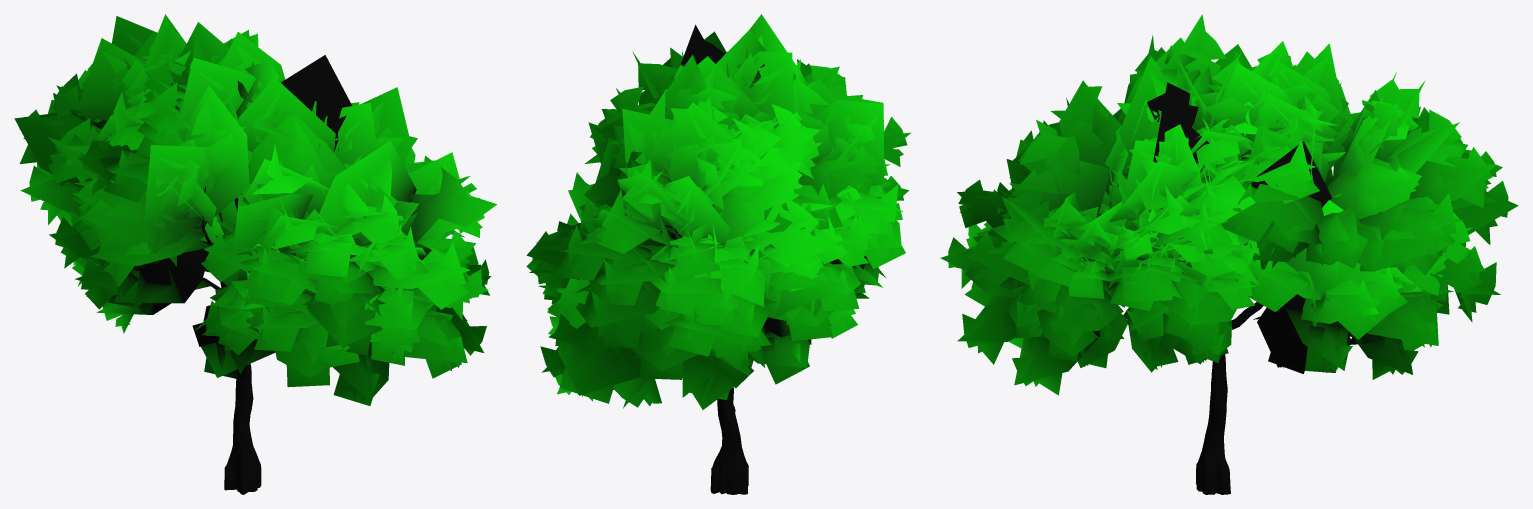
3 renders of one model, left to right at view 1: azimuth 30°, elevation 25°; view 2: azimuth 150°, elevation 25°; view 3: azimuth 270°, elevation 25°, orthographic.
Parts seen in each view (by area): view 1: SM_TR_CitrusTree_6m_HD; view 2: SM_TR_CitrusTree_6m_HD; view 3: SM_TR_CitrusTree_6m_HD.
Boxes of the visible parts, x1,y1,x2,y2 form: SM_TR_CitrusTree_6m_HD: (14, 14, 496, 494); SM_TR_CitrusTree_6m_HD: (526, 14, 910, 494); SM_TR_CitrusTree_6m_HD: (940, 14, 1518, 494).
Bounding box in the file's own units: 251 × 173 × 214.
